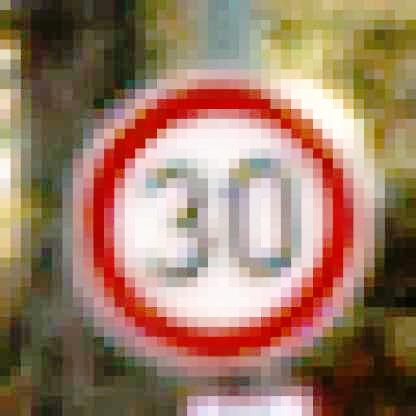Speed Limit -30-: (72, 73, 377, 371)
